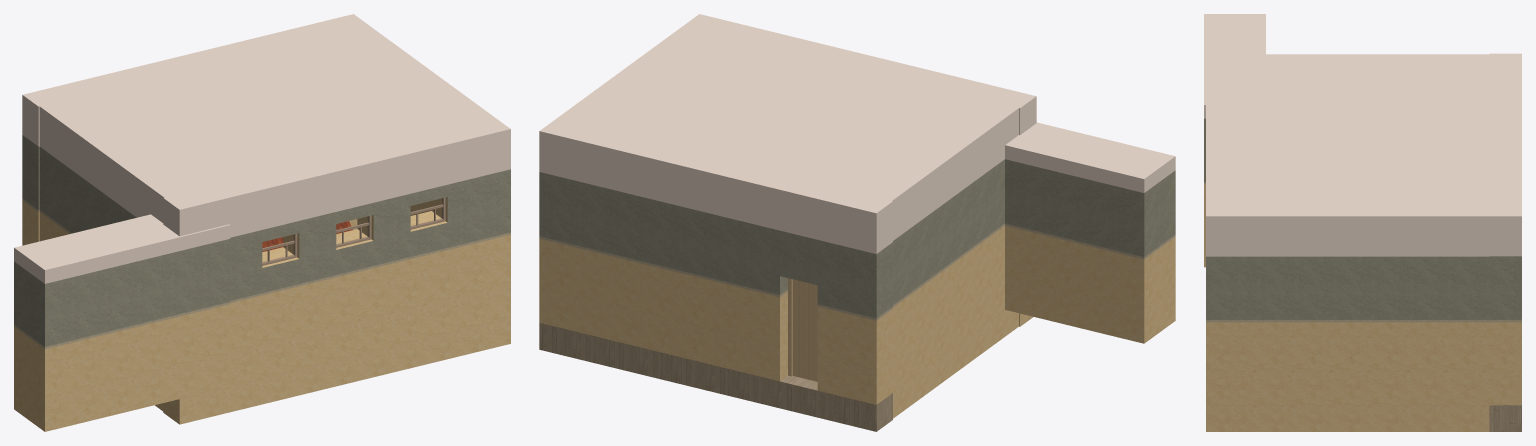
The model's file is pantry_32_preview.dae.
3 views of the same model, side by side, from view 1: azimuth 30°, elevation 25°; view 2: azimuth 150°, elevation 25°; view 3: azimuth 270°, elevation 25° (orthographic).
Parts seen in each view (by area): view 1: Detail0; view 2: Detail0; view 3: Detail0.
Boxes of the visible parts, x1,y1,x2,y2 form: Detail0: (14,14,510,431); Detail0: (539,14,1175,431); Detail0: (1204,14,1521,431).
Bounding box in the file's own units: 227 × 133 × 99.62.
